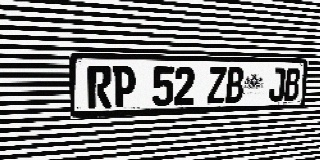2: (174, 67, 195, 105)
5: (153, 66, 174, 106)
B: (225, 67, 244, 103), (284, 68, 301, 101)
J: (268, 68, 286, 102)
P: (113, 66, 136, 108)
R: (87, 65, 112, 109)
Z: (207, 67, 226, 104)
